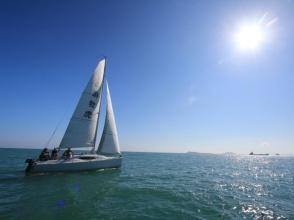fanchuan: (22, 58, 128, 177)
